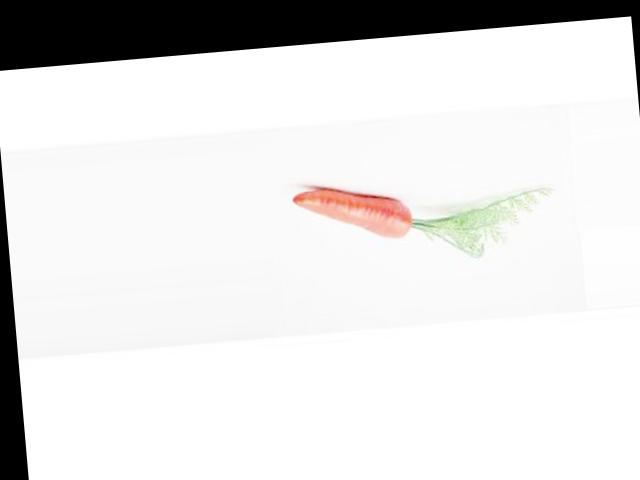carrot: (283, 162, 420, 253)
